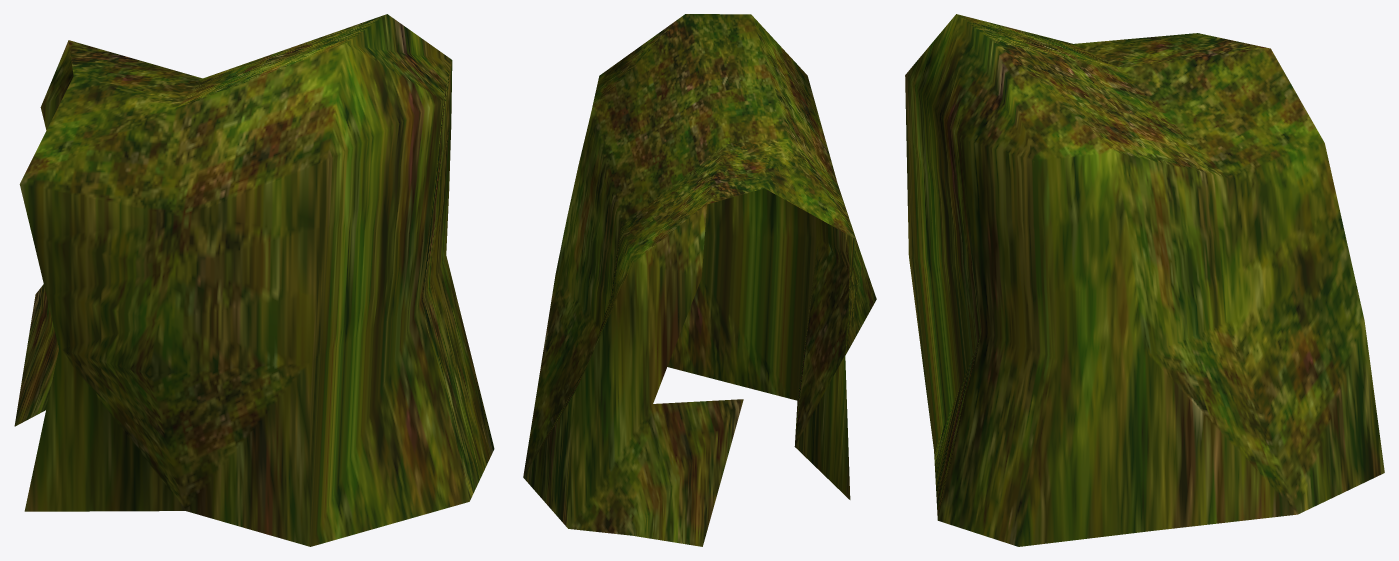
The model's file is TROLLHOLE02_BOX323.fbx.
3 renders of one model, left to right at view 1: azimuth 30°, elevation 25°; view 2: azimuth 150°, elevation 25°; view 3: azimuth 270°, elevation 25°, orthographic. The views are drawn at different scales.
Visible parts, largest first — view 1: TROLLHOLE02_BOX323; view 2: TROLLHOLE02_BOX323; view 3: TROLLHOLE02_BOX323.
Part boxes in pixels (x1=…): TROLLHOLE02_BOX323: x1=14, y1=14, x2=494, y2=546; TROLLHOLE02_BOX323: x1=523, y1=14, x2=876, y2=546; TROLLHOLE02_BOX323: x1=905, y1=14, x2=1384, y2=546.
Size of the model in its own units: 44521 by 51111 by 47527.
1 material, 1 textured.
